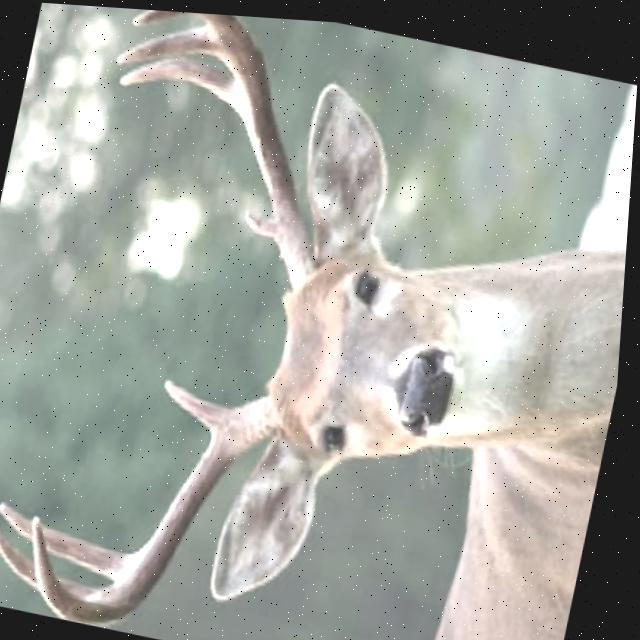L-F: (39, 393, 276, 622)
L-G1: (169, 375, 241, 429)
R-F: (189, 10, 315, 277)
R-G1: (248, 208, 280, 235)
R-G2: (121, 54, 245, 113)
R-G3: (117, 21, 224, 62)
